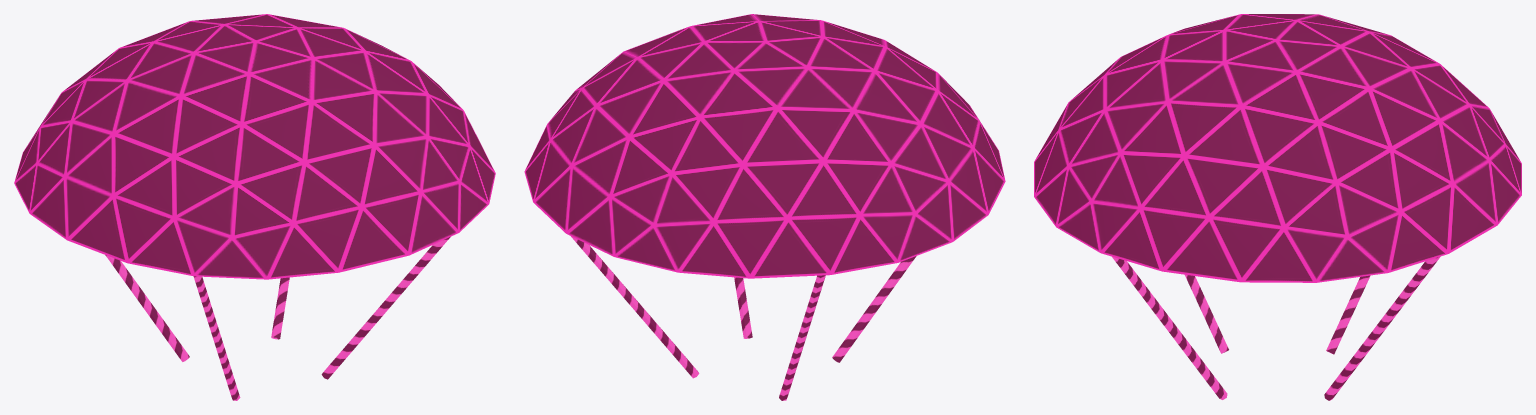
Rendered from parachute_meta.glb.
3 renders of one model, left to right at view 1: azimuth 30°, elevation 25°; view 2: azimuth 150°, elevation 25°; view 3: azimuth 270°, elevation 25°, orthographic. The views are drawn at different scales.
Parts seen in each view (by area): view 1: parachute.002, rope3, rope4, rope2, rope1; view 2: parachute.002, rope1, rope2, rope4, rope3; view 3: parachute.002, rope1, rope3, rope2, rope4.
Boxes of the visible parts, <box> form: parachute.002: <box>14,14,495,279</box>; rope3: <box>321,237,450,379</box>; rope4: <box>105,255,189,361</box>; rope2: <box>193,276,240,400</box>; rope1: <box>271,277,289,339</box>; parachute.002: <box>524,14,1005,278</box>; rope1: <box>571,236,699,378</box>; rope2: <box>832,256,916,362</box>; rope4: <box>779,275,825,400</box>; rope3: <box>734,277,752,338</box>; parachute.002: <box>1034,14,1521,282</box>; rope1: <box>1324,256,1440,400</box>; rope3: <box>1112,256,1227,399</box>; rope2: <box>1185,274,1228,353</box>; rope4: <box>1326,275,1370,354</box>.
Size of what is drawn, in the model's own units: 3.58 by 2.72 by 3.57.
1 material, 1 textured.
